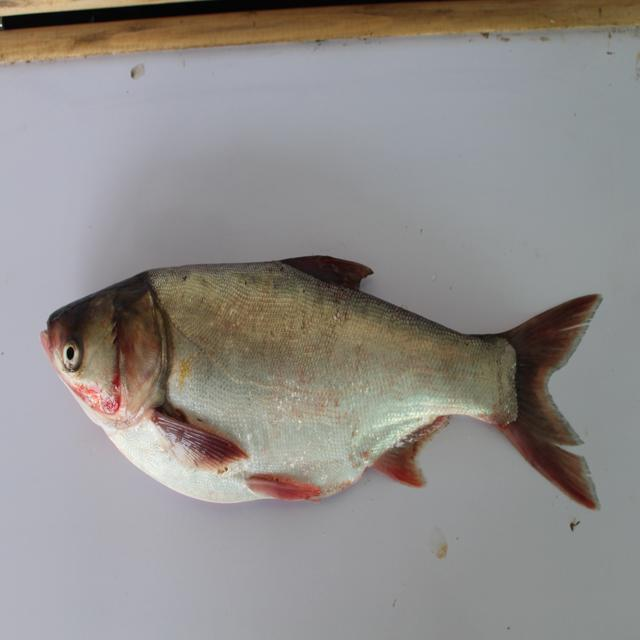SilverCarp: (36, 240, 616, 546)
